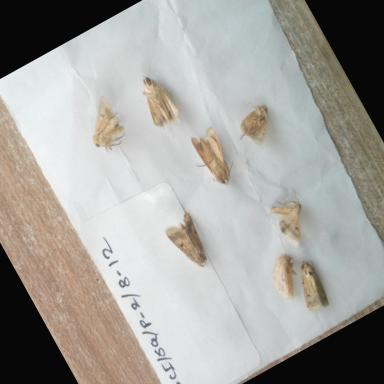abw: (178, 118, 246, 198), (125, 62, 193, 140), (71, 88, 140, 162), (261, 184, 327, 256), (155, 206, 219, 280), (224, 92, 289, 158), (282, 256, 336, 318), (255, 246, 310, 306)
